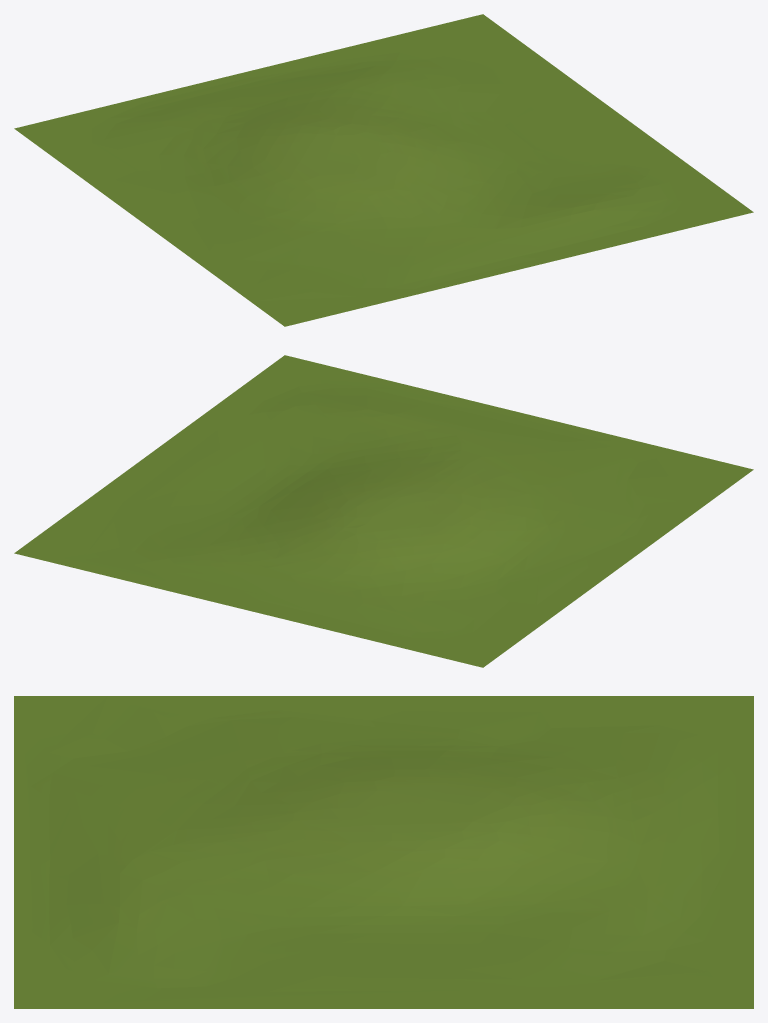
The model's file is Terrain_02.glb.
3 renders of one model, top to bottom at view 1: azimuth 30°, elevation 25°; view 2: azimuth 150°, elevation 25°; view 3: azimuth 270°, elevation 25°, orthographic. The views are drawn at different scales.
Visible parts, largest first — view 1: Terrain_02; view 2: Terrain_02; view 3: Terrain_02.
Part boxes in pixels (x1=…): Terrain_02: x1=14, y1=14, x2=753, y2=326; Terrain_02: x1=14, y1=355, x2=753, y2=667; Terrain_02: x1=14, y1=696, x2=753, y2=1008.
Bounding box in the file's own units: 128 × 4.14 × 128.
1 material, 1 textured.
